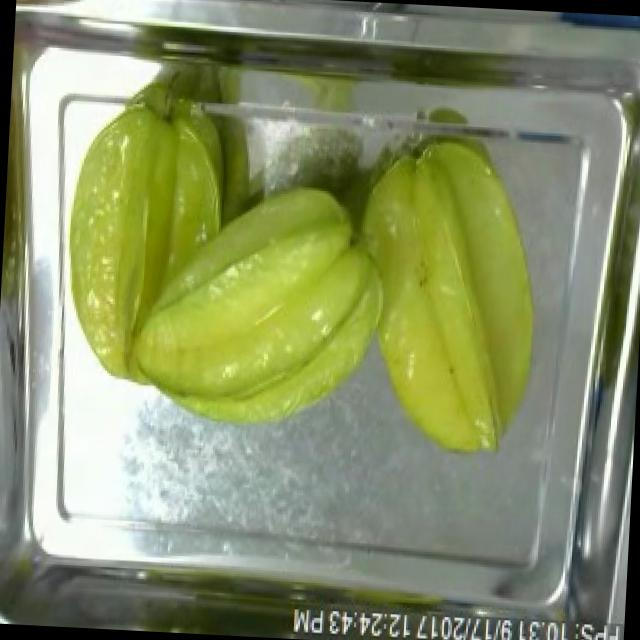fruit: (340, 119, 562, 474), (118, 161, 396, 440), (48, 81, 245, 390)
